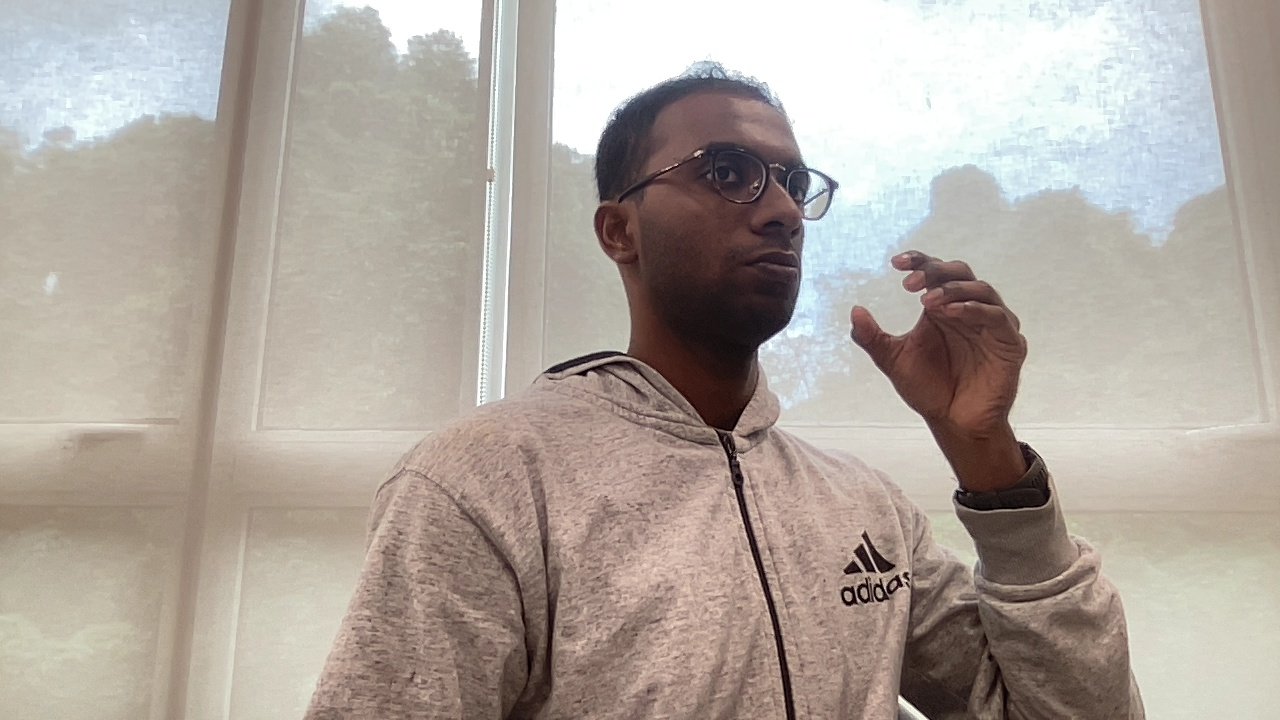drink: (847, 246, 1042, 435)
